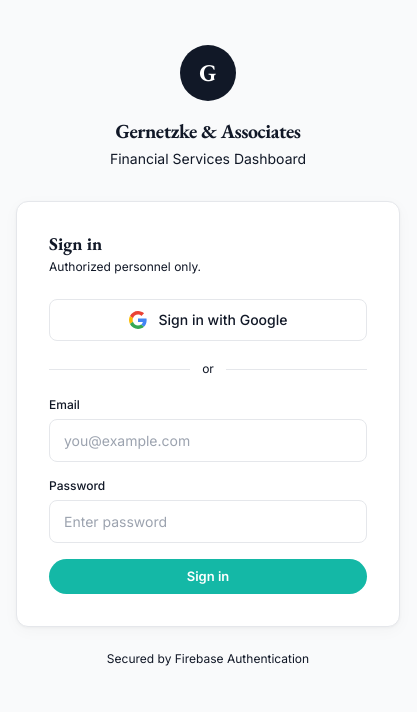
LoginScreen › shows error on invalid credentials
Step 1. Type "test@test.com" into the field labelled "Email" → coordinates (208, 441), box 49,419 -> 367,462
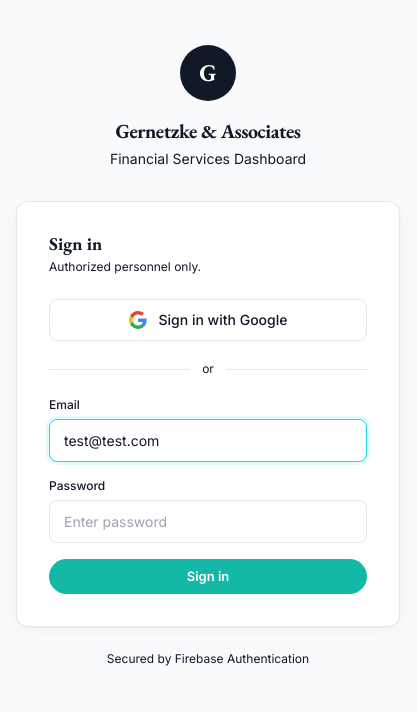
Step 2. Type "wrong" into the password field labelled "Password" → coordinates (208, 522), box 49,500 -> 367,543
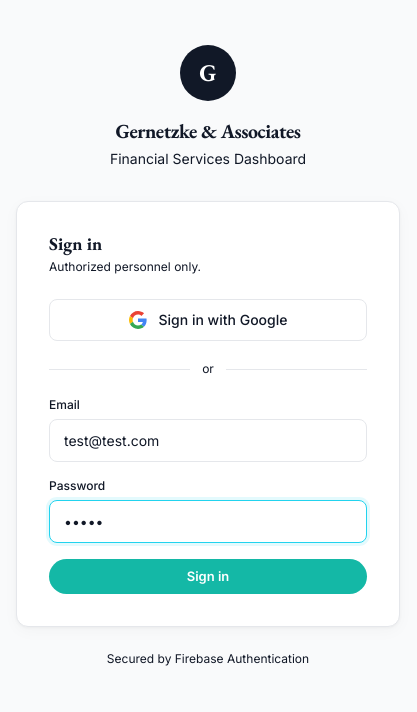
Step 3. Click the button "Sign in" → coordinates (208, 576), box 49,559 -> 367,594
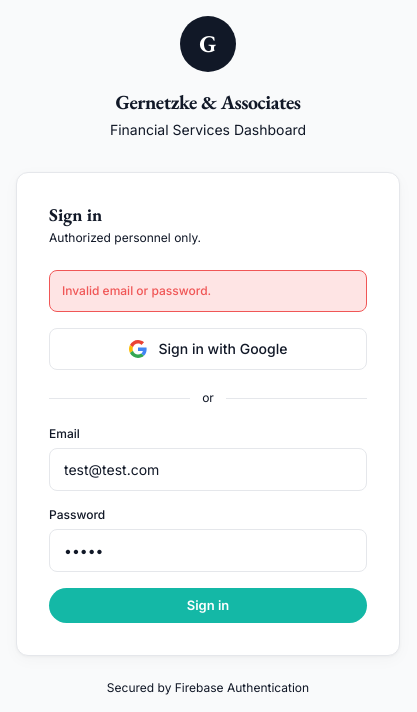
Expected: the text "Invalid email or password." is shown, 49,270 -> 367,312
